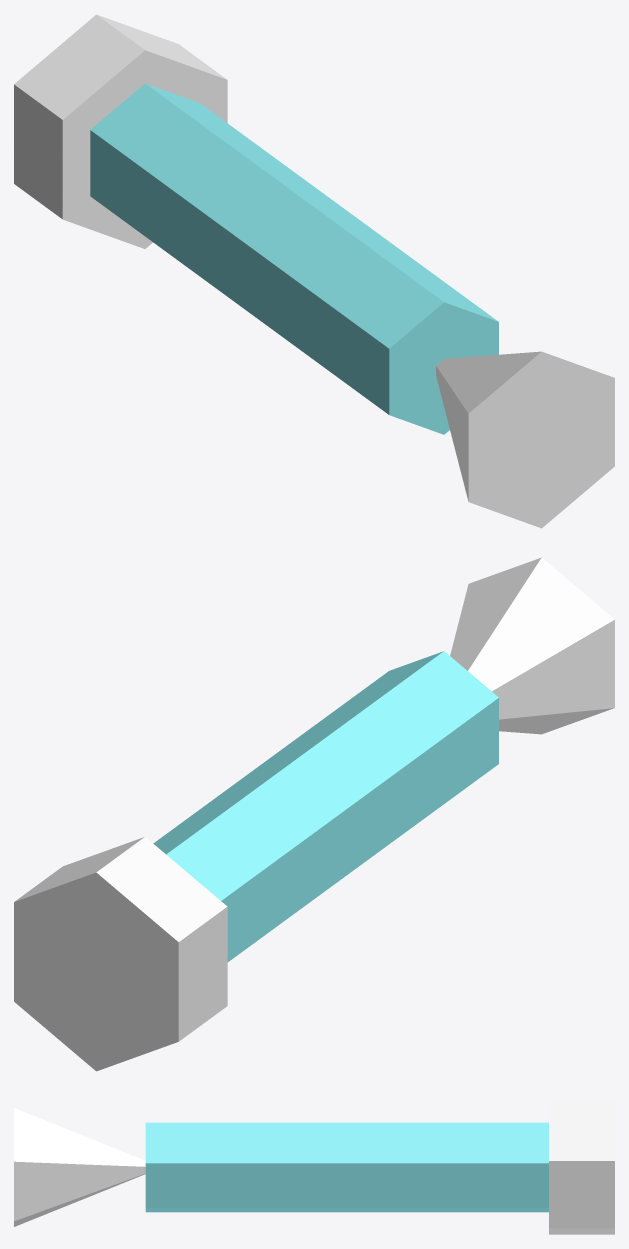
Rendered from Projectile_Bolt.fbx.
3 renders of one model, top to bottom at view 1: azimuth 30°, elevation 25°; view 2: azimuth 150°, elevation 25°; view 3: azimuth 270°, elevation 25°, orthographic. The views are drawn at different scales.
Parts seen in each view (by area): view 1: Projectile_Bolt; view 2: Projectile_Bolt; view 3: Projectile_Bolt.
Part boxes in pixels (x1,y1,x2,y2): Projectile_Bolt: (14, 14, 614, 528); Projectile_Bolt: (14, 557, 614, 1071); Projectile_Bolt: (14, 1100, 614, 1234).
Bounding box in the file's own units: 0.1559 × 0.18 × 0.73.
